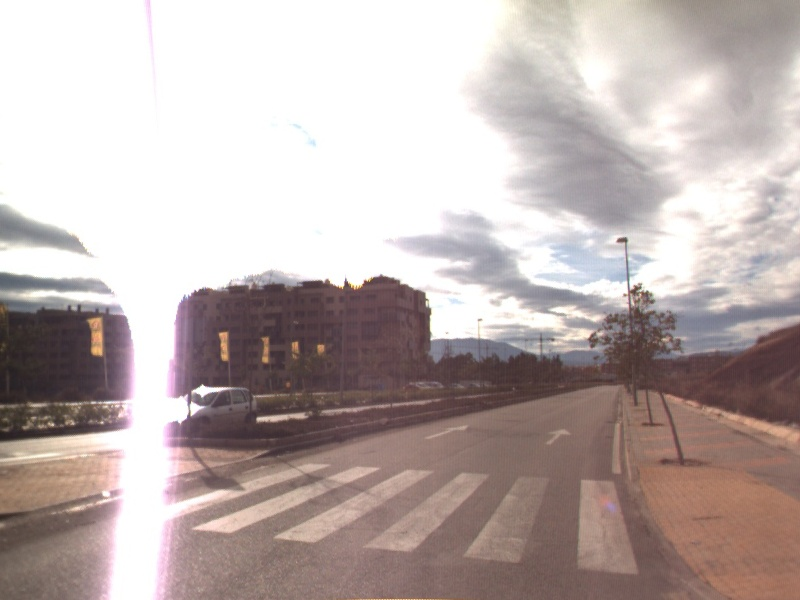STRAIGHT: (422, 422, 472, 441), (543, 426, 574, 447)
